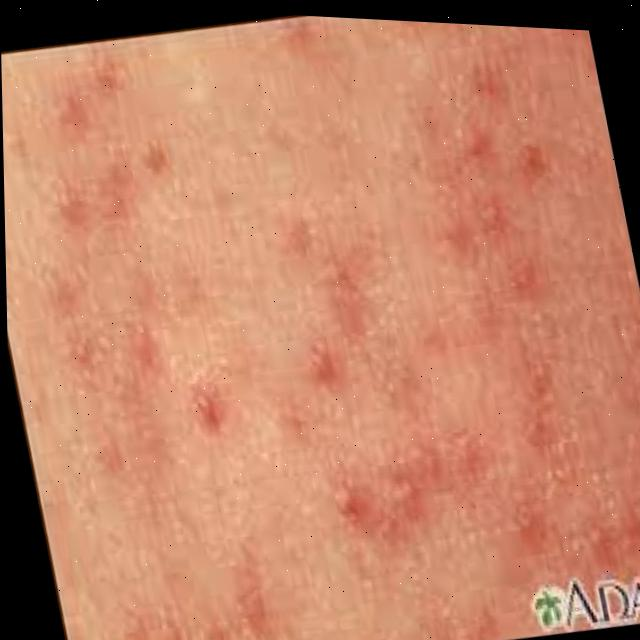Eczema: (1, 28, 640, 640)
